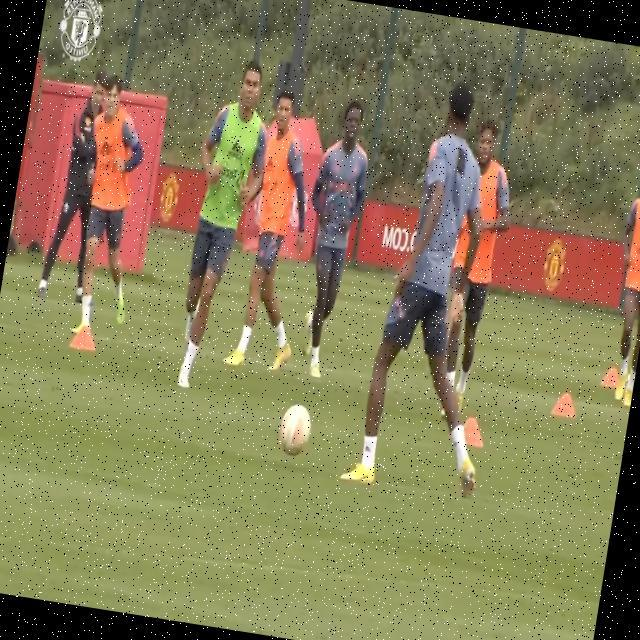Adidas: (227, 135, 247, 163), (99, 137, 114, 159), (263, 153, 278, 175)
